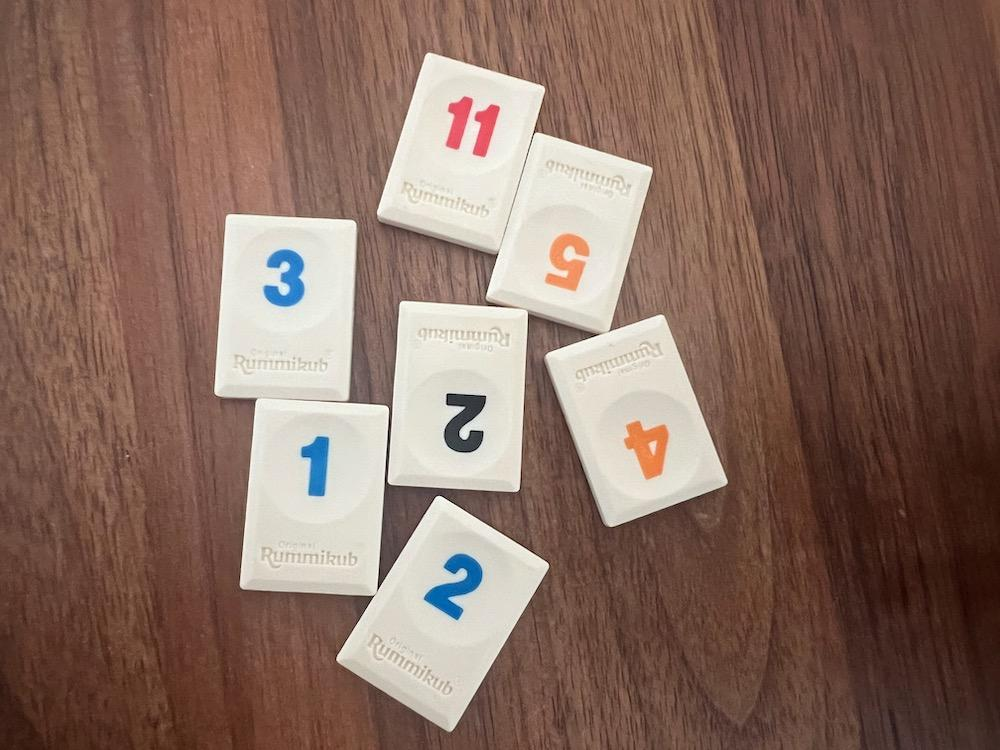black_2: (390, 301, 527, 492)
blue_1: (240, 398, 387, 596)
blue_2: (338, 496, 549, 730)
blue_3: (215, 215, 357, 399)
orange_4: (547, 316, 727, 525)
orange_5: (486, 133, 652, 334)
red_11: (377, 55, 545, 254)
